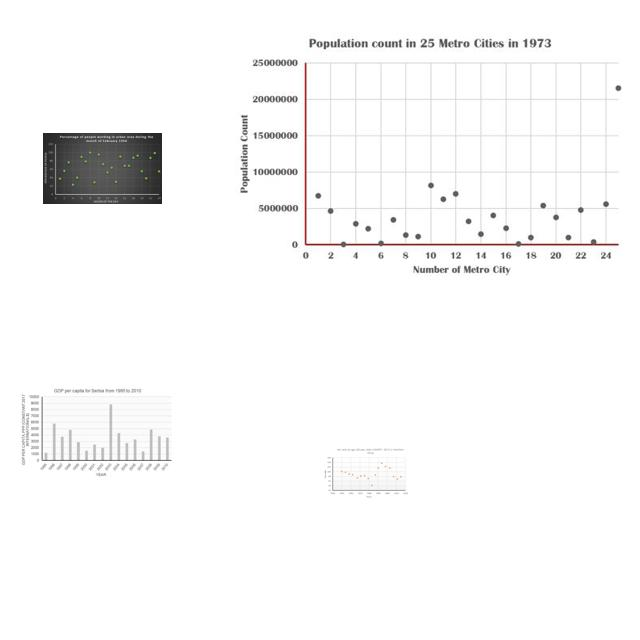Graph: (235, 33, 626, 276), (20, 386, 173, 478), (43, 133, 162, 204), (322, 447, 409, 498)
